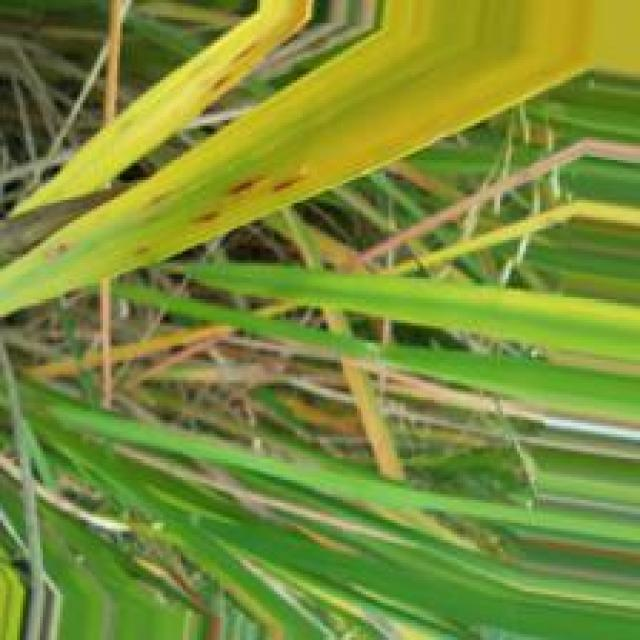Narrow_Brown_Leaf_Spot: (1, 166, 337, 318), (150, 11, 305, 141)
